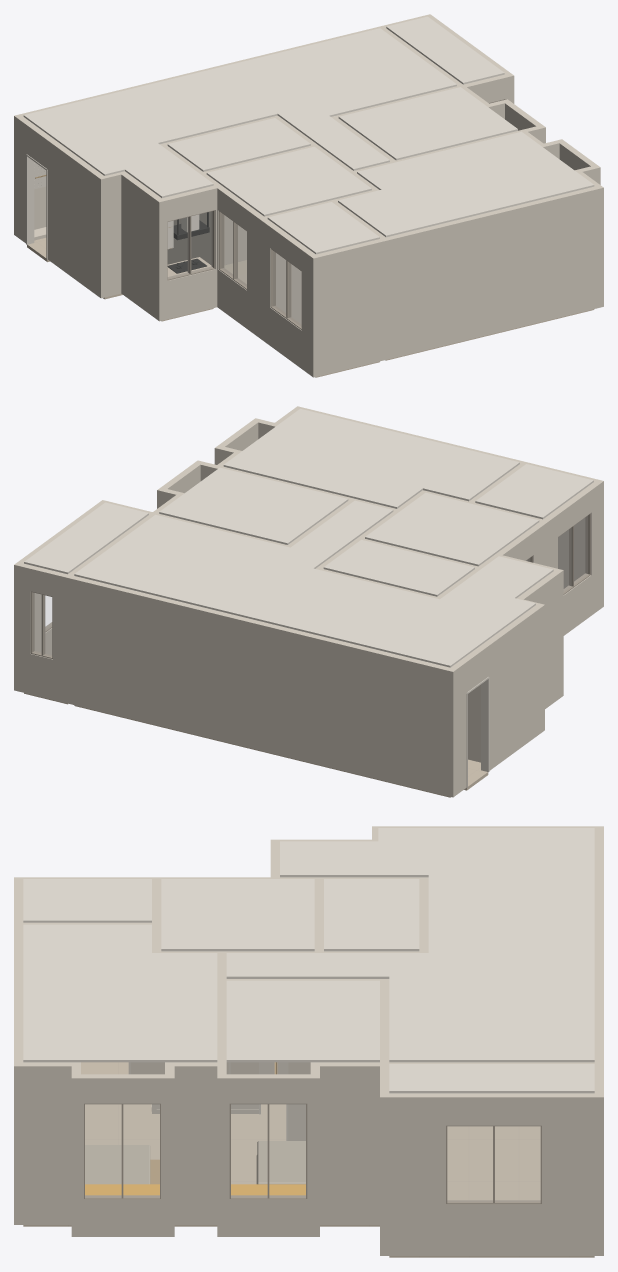
File: house.glb
3 renders of one model, top to bottom at view 1: azimuth 30°, elevation 25°; view 2: azimuth 150°, elevation 25°; view 3: azimuth 270°, elevation 25°, orthographic. The views are drawn at different scales.
Visible parts, largest first — view 1: WALL_EXT_014, CEILING_ROOM_003, CEILING_ROOM_008, WALL_EXT_020, CEILING_ROOM_007, CEILING_ROOM_006, CEILING_ROOM_002, WALL_EXT_017, WALL_EXT_015, WALL_EXT_018, CEILING_ROOM_005, WALL_EXT_016 (+17 smaller); view 2: WALL_EXT_001, CEILING_ROOM_003, CEILING_ROOM_008, WALL_EXT_020, CEILING_ROOM_007, CEILING_ROOM_006, CEILING_ROOM_002, WALL_EXT_002, CEILING_ROOM_005, WALL_EXT_015, CEILING_ROOM_004, CEILING_ROOM_009 (+14 smaller); view 3: CEILING_ROOM_003, WALL_EXT_003, CEILING_ROOM_008, CEILING_ROOM_007, CEILING_ROOM_006, CEILING_ROOM_002, WALL_EXT_005, WALL_EXT_013, WALL_EXT_009, CEILING_ROOM_005, ROOM_003, WINDOW_002_glazing (+32 smaller).
Boxes of the visible parts, left/top/right/bottom form: WALL_EXT_014: left=310, top=185, right=603, bottom=377; CEILING_ROOM_003: left=96, top=28, right=456, bottom=146; CEILING_ROOM_008: left=338, top=131, right=594, bottom=237; WALL_EXT_020: left=17, top=117, right=103, bottom=295; CEILING_ROOM_007: left=338, top=87, right=517, bottom=160; CEILING_ROOM_006: left=206, top=146, right=371, bottom=216; CEILING_ROOM_002: left=54, top=120, right=213, bottom=197; WALL_EXT_017: left=156, top=185, right=217, bottom=321; WALL_EXT_015: left=260, top=218, right=315, bottom=374; WALL_EXT_018: left=121, top=173, right=161, bottom=318; CEILING_ROOM_005: left=167, top=118, right=310, bottom=171; WALL_EXT_016: left=216, top=185, right=265, bottom=337; WALL_EXT_001: left=67, top=575, right=456, bottom=797; CEILING_ROOM_003: left=74, top=514, right=439, bottom=648; CEILING_ROOM_008: left=223, top=408, right=519, bottom=508; WALL_EXT_020: left=451, top=606, right=541, bottom=794; CEILING_ROOM_007: left=159, top=467, right=348, bottom=544; CEILING_ROOM_006: left=365, top=492, right=539, bottom=566; CEILING_ROOM_002: left=407, top=556, right=553, bottom=643; WALL_EXT_002: left=14, top=562, right=70, bottom=703; CEILING_ROOM_005: left=323, top=539, right=474, bottom=596; WALL_EXT_015: left=541, top=482, right=600, bottom=635; CEILING_ROOM_004: left=24, top=502, right=148, bottom=574; CEILING_ROOM_009: left=475, top=464, right=593, bottom=519; CEILING_ROOM_003: left=314, top=875, right=594, bottom=1062; WALL_EXT_003: left=389, top=1093, right=594, bottom=1255; CEILING_ROOM_008: left=23, top=924, right=217, bottom=1062; CEILING_ROOM_007: left=226, top=980, right=379, bottom=1062; CEILING_ROOM_006: left=161, top=879, right=314, bottom=951; CEILING_ROOM_002: left=280, top=828, right=511, bottom=877; WALL_EXT_005: left=320, top=1062, right=379, bottom=1224; WALL_EXT_013: left=23, top=1062, right=71, bottom=1224; WALL_EXT_009: left=174, top=1062, right=217, bottom=1224; CEILING_ROOM_005: left=324, top=879, right=419, bottom=951; ROOM_003: left=447, top=1126, right=540, bottom=1200; WINDOW_002_glazing: left=448, top=1127, right=539, bottom=1201.
Bounding box in the file's own units: 10.26 × 2.94 × 9.43.
22 materials, 3 textured.
